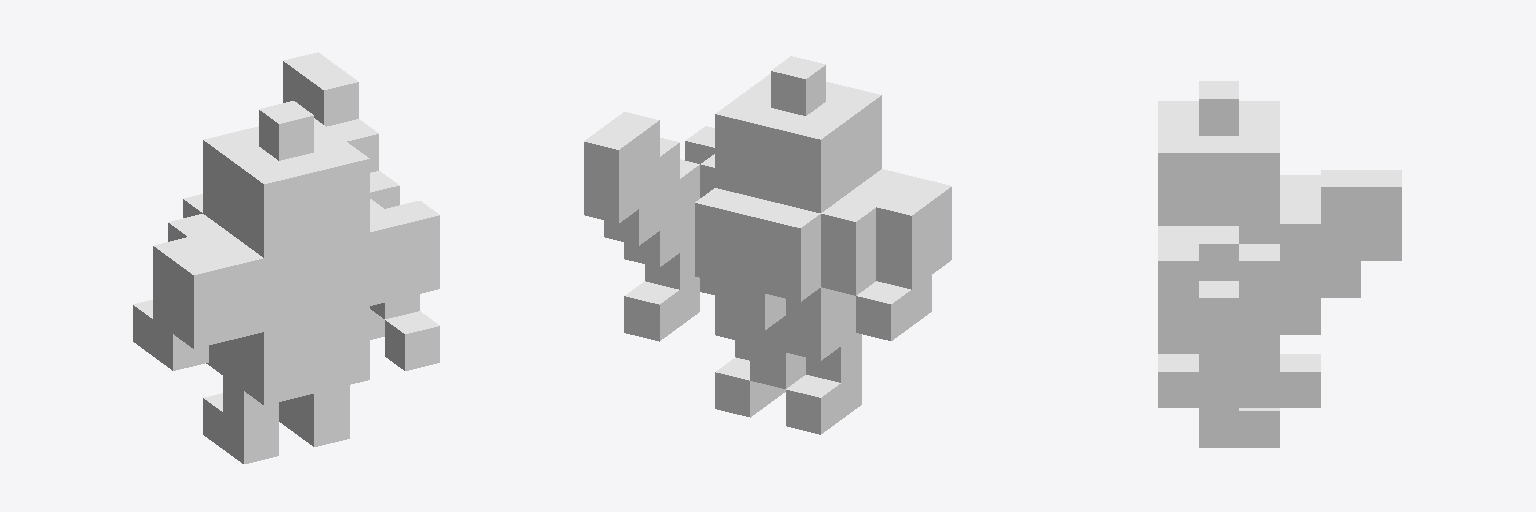
Rendered from Rus.obj.
3 views of the same model, side by side, from view 1: azimuth 30°, elevation 25°; view 2: azimuth 150°, elevation 25°; view 3: azimuth 270°, elevation 25° (orthographic).
Visible parts, largest first — view 1: GnomeBase; view 2: GnomeBase; view 3: GnomeBase.
Part boxes in pixels (bbox=[...]): GnomeBase: bbox=[133, 52, 439, 463]; GnomeBase: bbox=[584, 56, 951, 434]; GnomeBase: bbox=[1158, 81, 1401, 447].
Bounding box in the file's own units: 0.7 × 0.9 × 0.6.